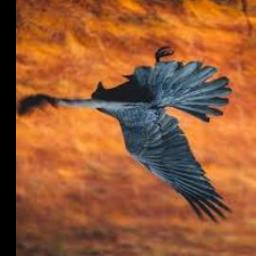Crow: (16, 48, 233, 226)
